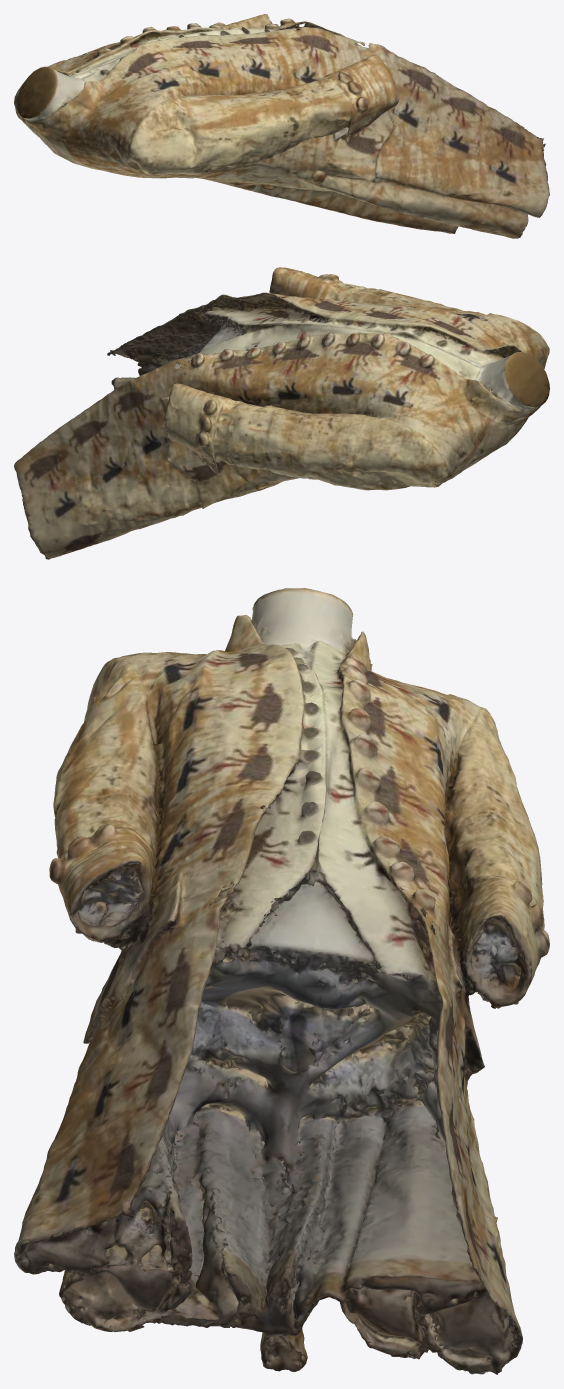
Rendered from preview.glb.
3 renders of one model, top to bottom at view 1: azimuth 30°, elevation 25°; view 2: azimuth 150°, elevation 25°; view 3: azimuth 270°, elevation 25°, orthographic. The views are drawn at different scales.
Visible parts, largest first — view 1: Object_2; view 2: Object_2; view 3: Object_2.
Part boxes in pixels (bbox=[...]): Object_2: bbox=[14, 14, 549, 238]; Object_2: bbox=[14, 267, 549, 559]; Object_2: bbox=[14, 588, 549, 1374].
Bounding box in the file's own units: 13.55 × 7.15 × 7.6.
Materials: 1 (1 with a texture image).
